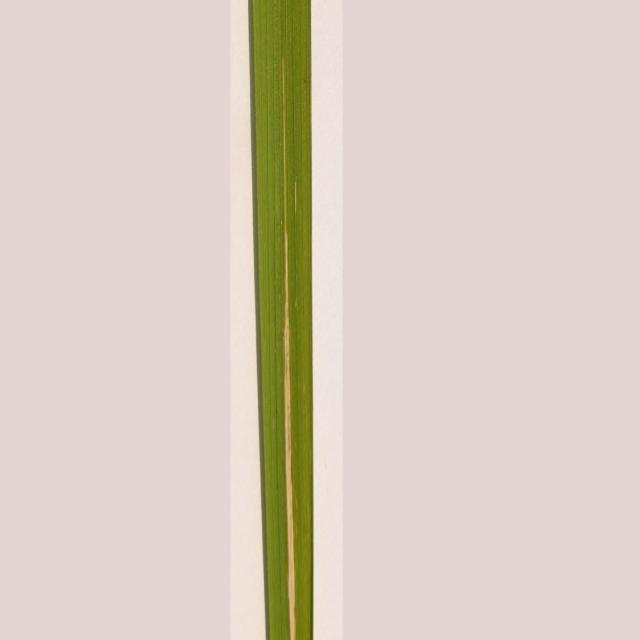leaf blight: (254, 46, 317, 640)
